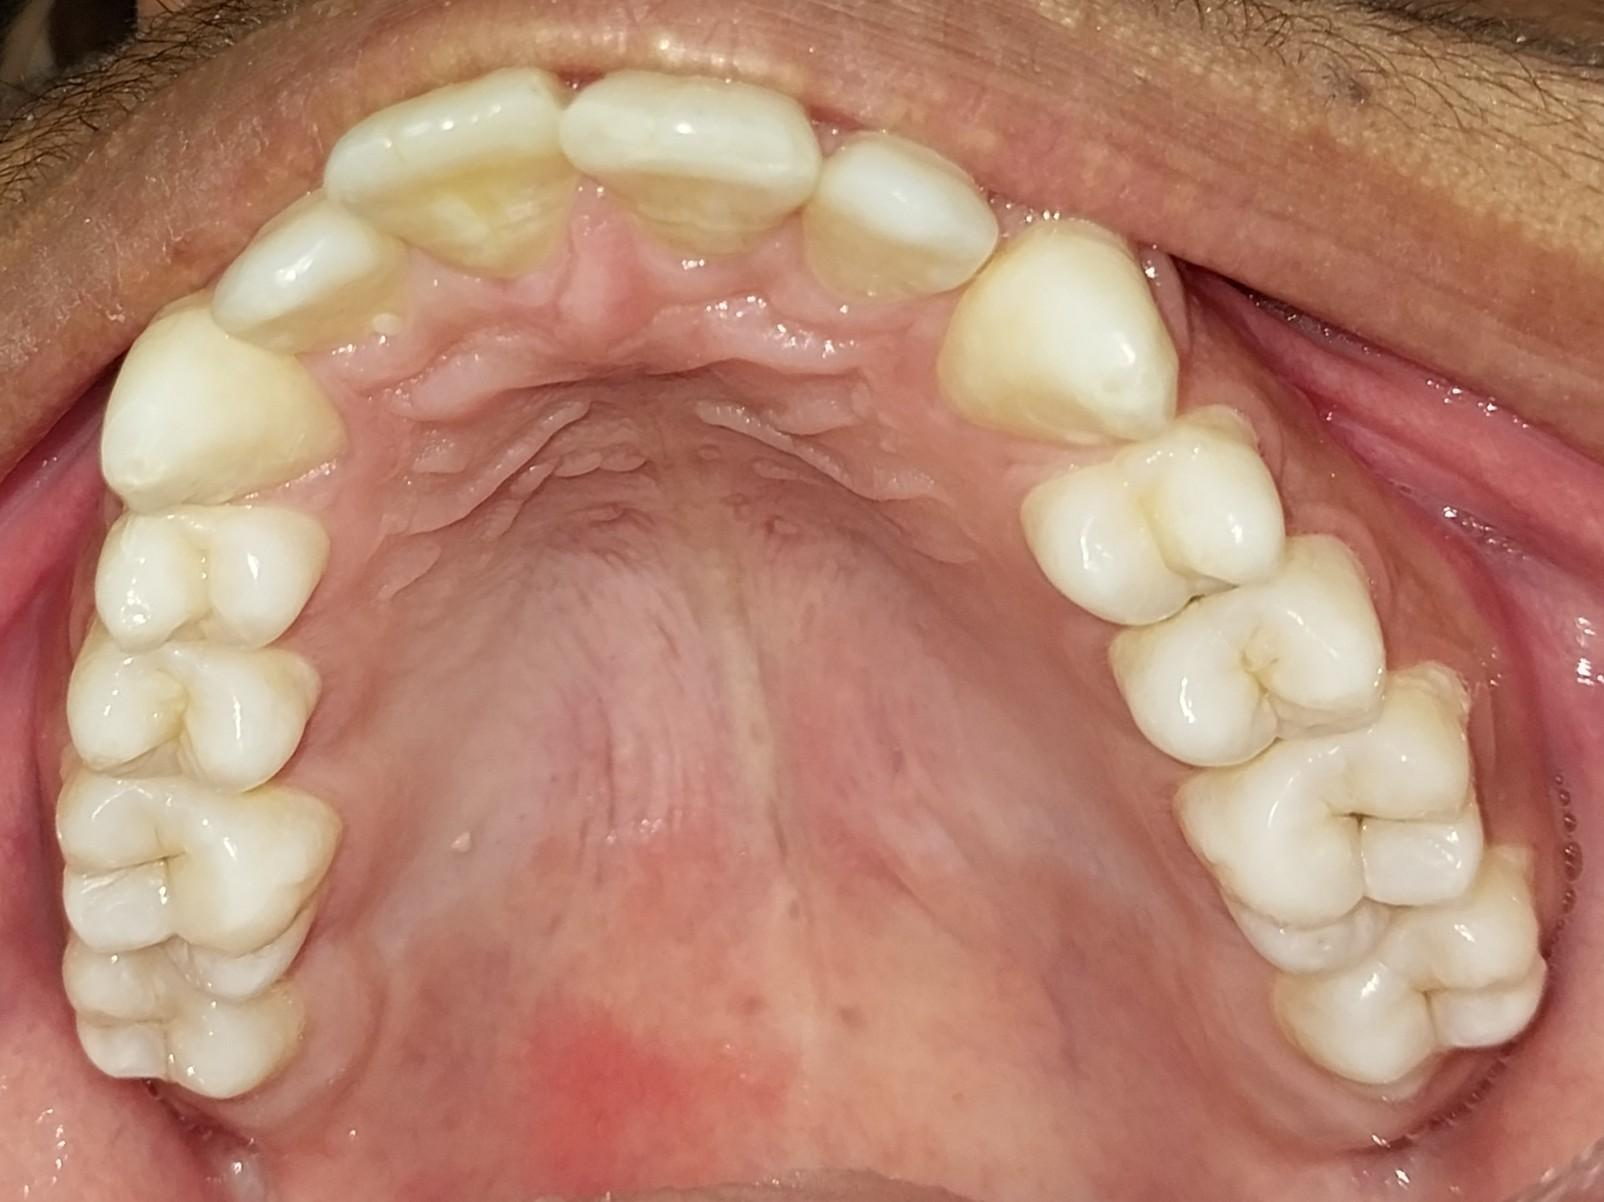D: (1173, 668, 1502, 975), (1268, 840, 1549, 1106)
